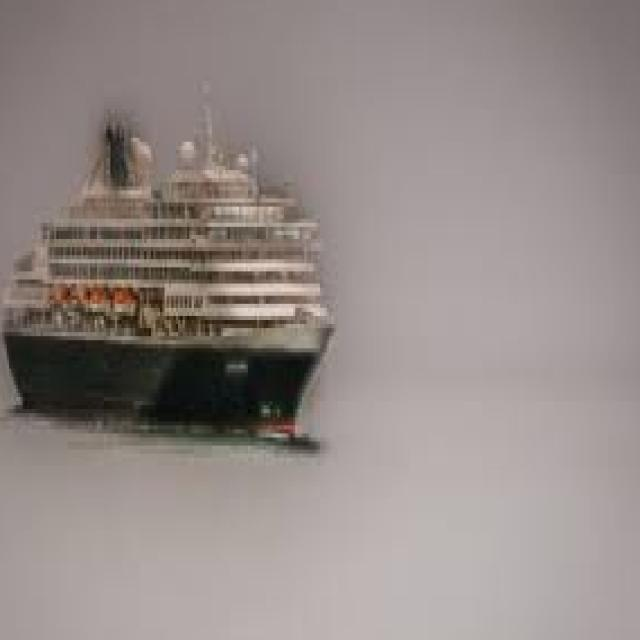passenger ship: (4, 111, 334, 432)
